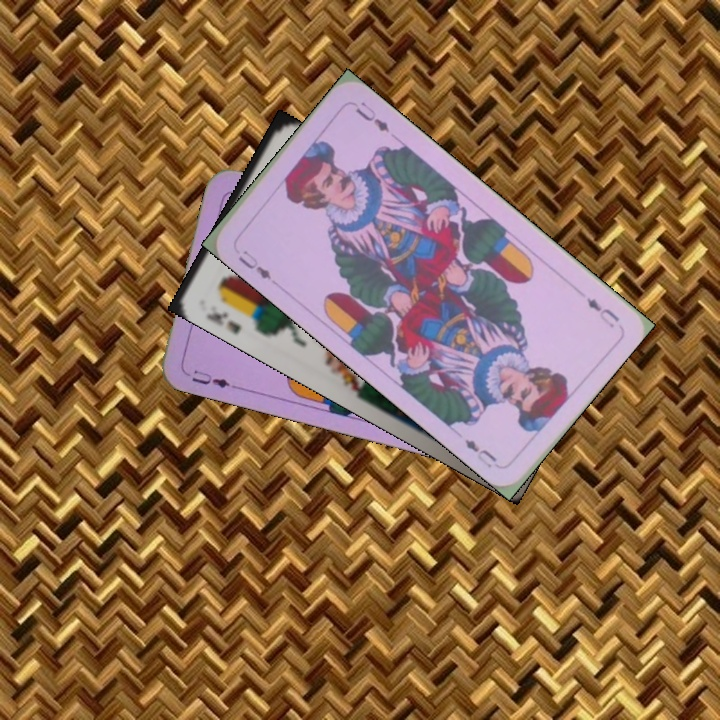EK: (202, 307, 244, 337)
EU: (582, 294, 623, 331), (234, 246, 274, 283), (187, 366, 239, 392)
